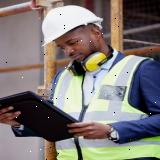Helmet: (40, 5, 104, 48)
Vest: (52, 55, 160, 160)
